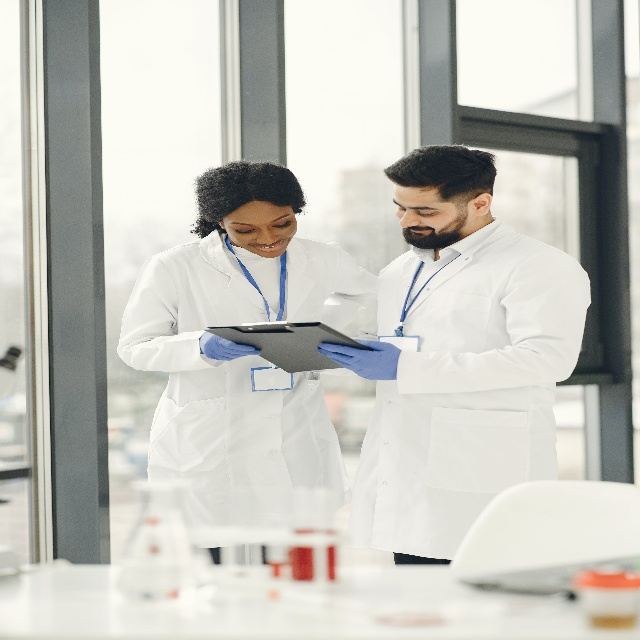Guantes: (317, 338, 401, 380), (199, 331, 262, 362)
